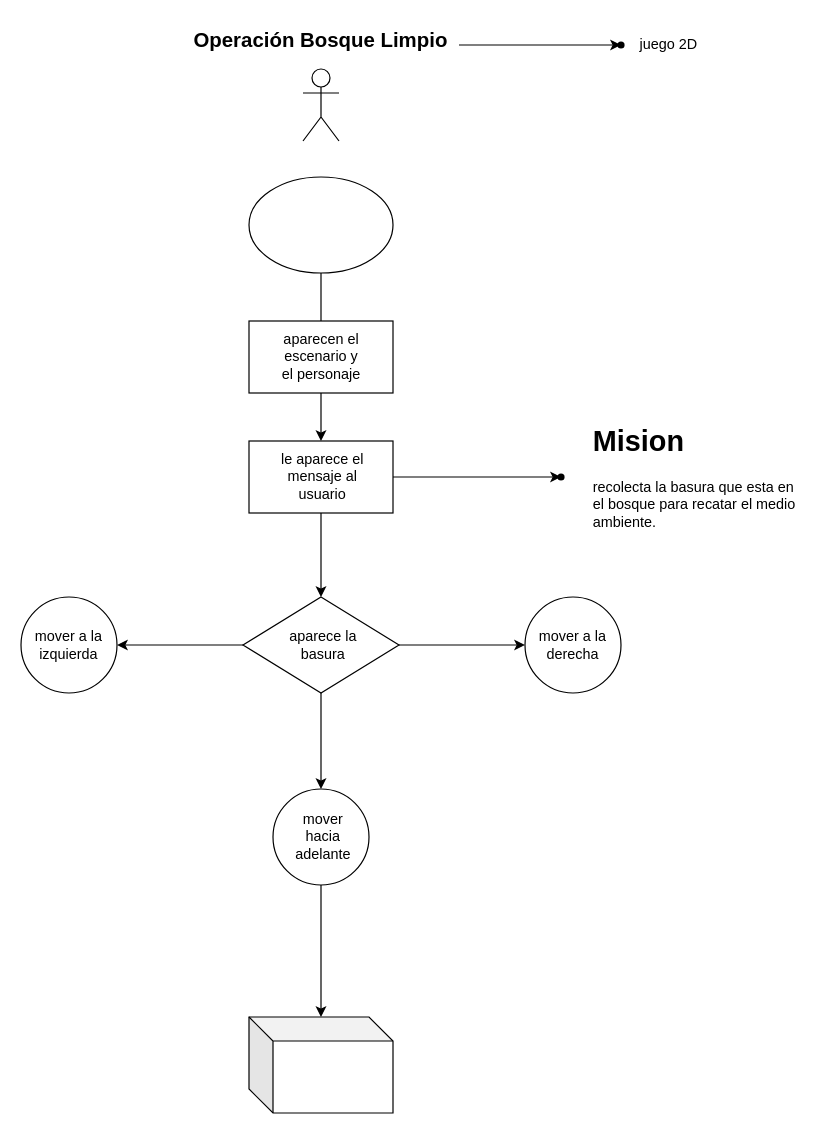
Image size: 828x1134. Some labels were removed from this diagram. The centre of each missing label's shape, as x and y in pixels:
"abrir el programa" goes at [320,224].
"Actor" goes at [320,104].
"animacion de felicitacion y fin del juego" goes at [320,1064].
